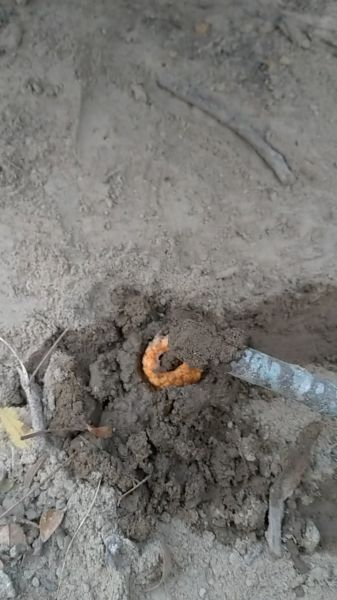eggs: (135, 328, 208, 391)
